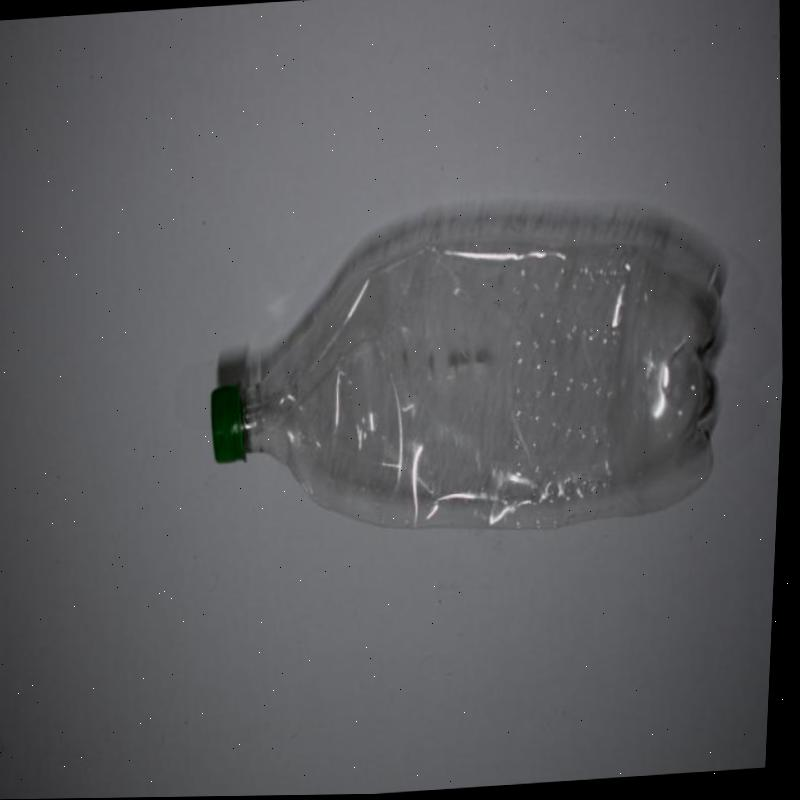botella: (202, 199, 741, 549)
